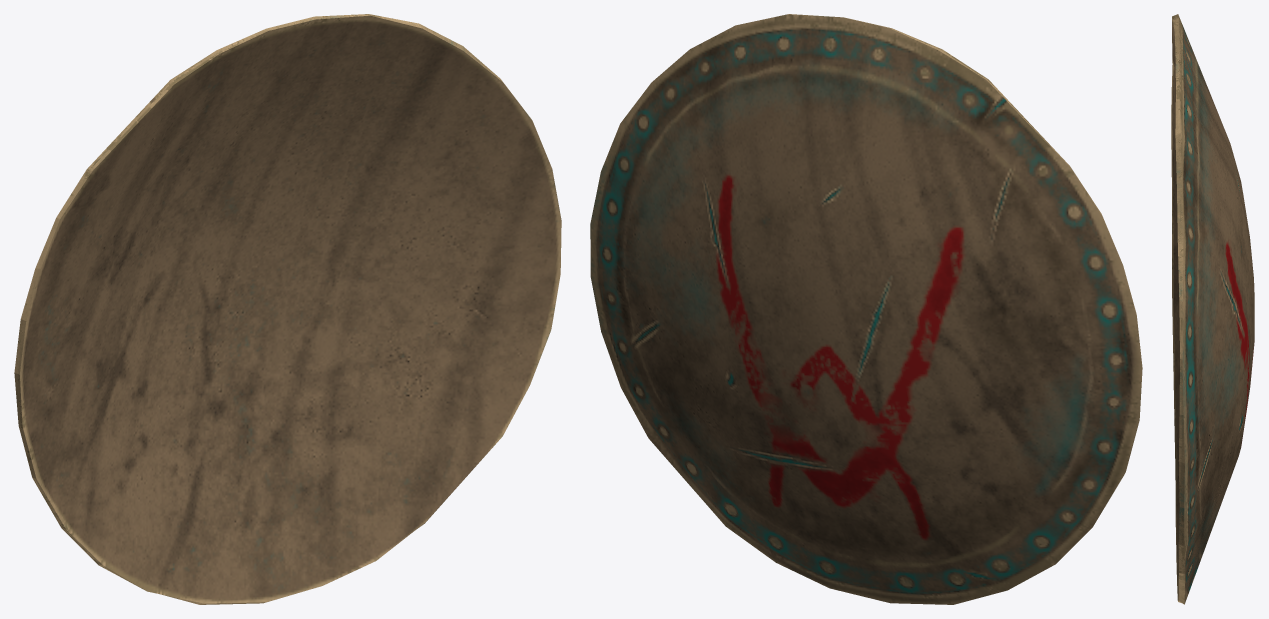
File: ARC0510145.fbx
3 views of the same model, side by side, from view 1: azimuth 30°, elevation 25°; view 2: azimuth 150°, elevation 25°; view 3: azimuth 270°, elevation 25° (orthographic). The views are drawn at different scales.
Visible parts, largest first — view 1: smARC0510145; view 2: smARC0510145; view 3: smARC0510145.
Boxes of the visible parts, box(x1,y1,x2,y2) form: smARC0510145: box(14, 14, 561, 604); smARC0510145: box(590, 14, 1142, 604); smARC0510145: box(1171, 14, 1254, 604).
Bounding box in the file's own units: 69.04 × 68.94 × 9.72.
1 material, 1 textured.
